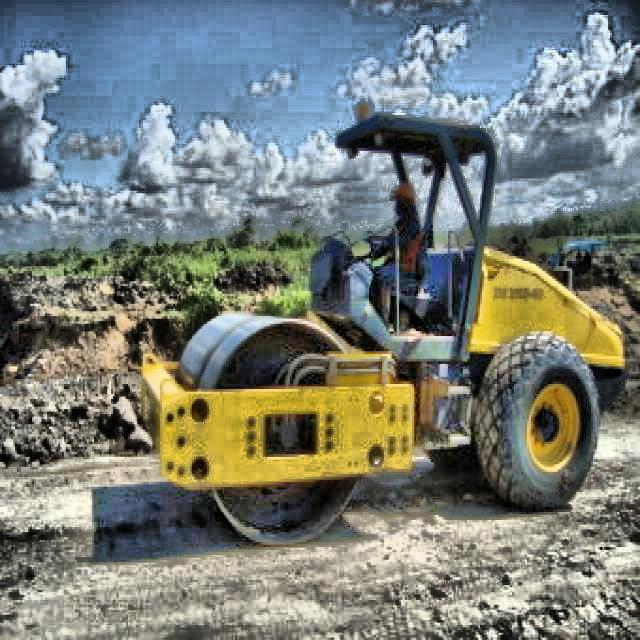bull_dozer/loader/grader: (129, 85, 629, 551)
person: (369, 166, 427, 336)
